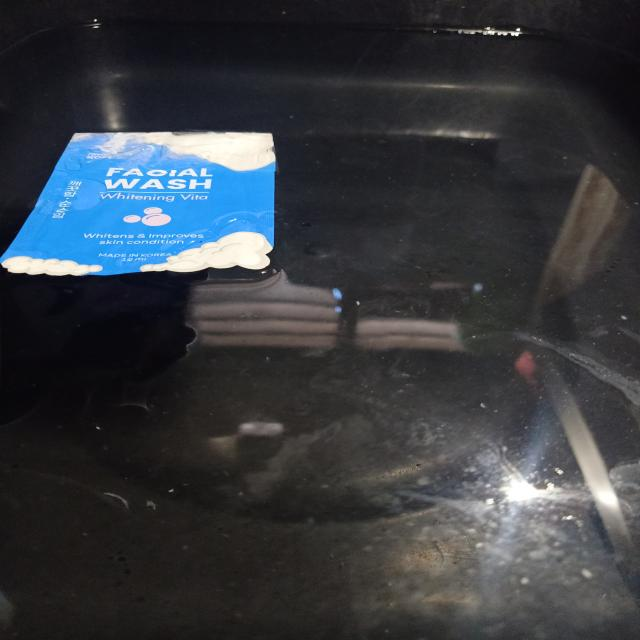Plastic Wrapper: (1, 132, 275, 275)
